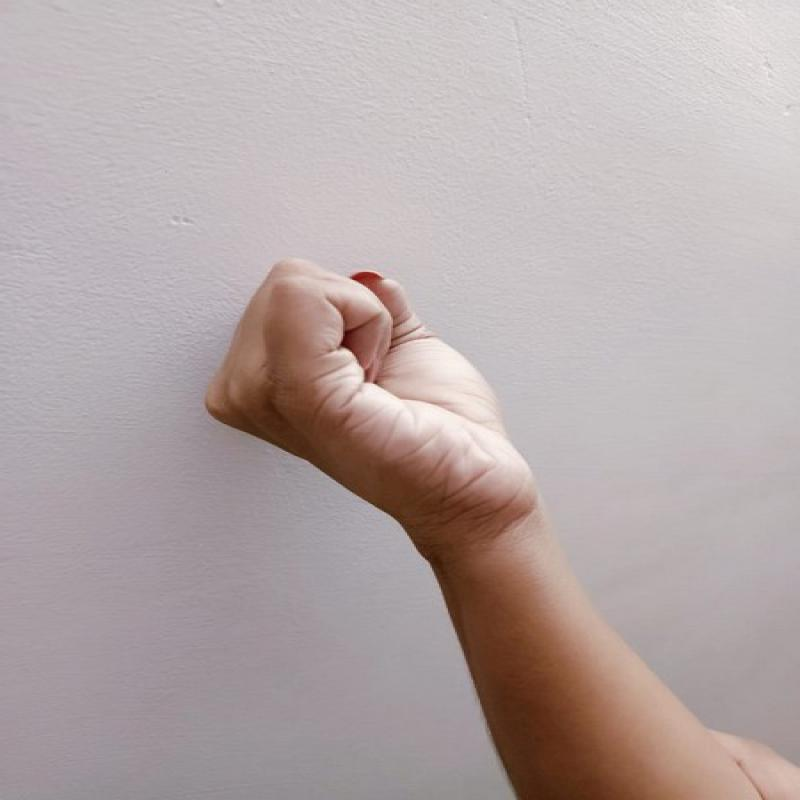Mushti: (182, 249, 547, 552)
